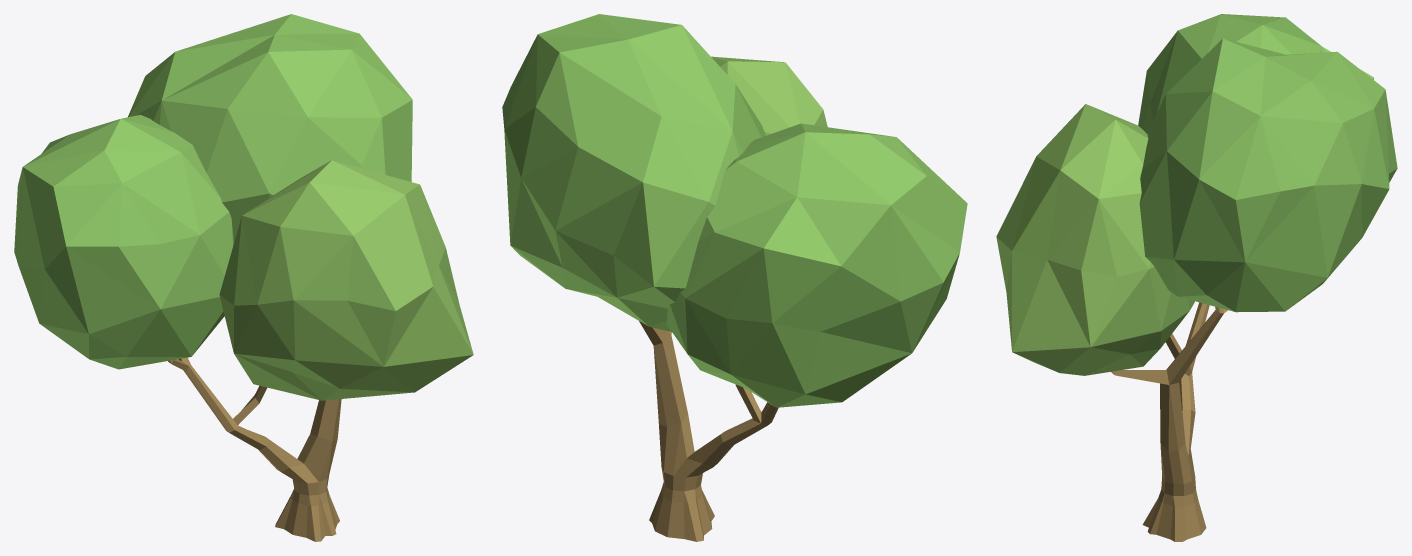
The model's file is Oak_Tree_l_03.fbx.
3 renders of one model, left to right at view 1: azimuth 30°, elevation 25°; view 2: azimuth 150°, elevation 25°; view 3: azimuth 270°, elevation 25°, orthographic. The views are drawn at different scales.
Parts seen in each view (by area): view 1: Oak_Tree_l_03; view 2: Oak_Tree_l_03; view 3: Oak_Tree_l_03.
Part boxes in pixels (<box>): Oak_Tree_l_03: <box>14,14,473,541</box>; Oak_Tree_l_03: <box>502,14,967,541</box>; Oak_Tree_l_03: <box>996,14,1397,541</box>.
Bounding box in the file's own units: 1097 × 1262 × 957.
